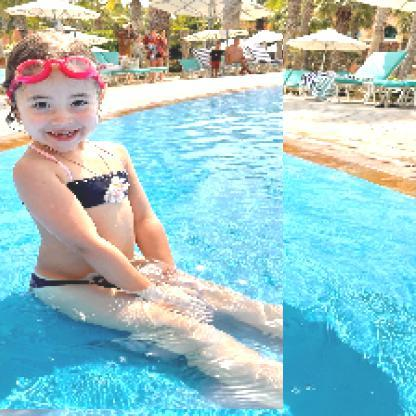child: (1, 31, 285, 411)
